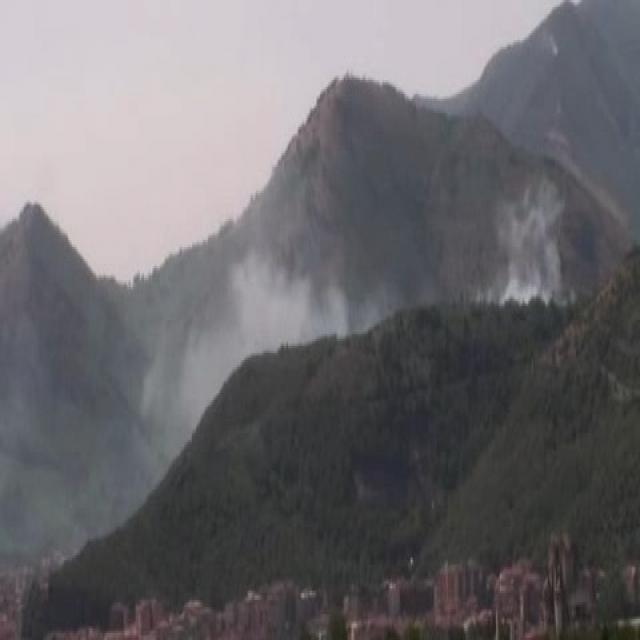smoke: (217, 266, 351, 357), (492, 194, 564, 301)
